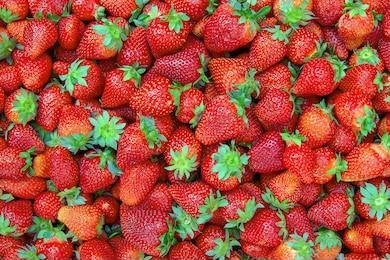Fresa: (192, 90, 252, 152), (200, 1, 260, 55), (118, 206, 177, 260), (111, 117, 161, 172), (202, 52, 256, 102), (128, 73, 181, 121), (198, 142, 246, 194), (33, 81, 79, 135), (143, 13, 193, 62), (245, 25, 292, 77), (151, 48, 209, 90), (305, 190, 357, 235), (163, 123, 205, 178), (291, 55, 342, 100), (166, 177, 219, 220), (239, 206, 288, 251), (76, 148, 120, 197), (57, 202, 107, 245), (44, 144, 84, 197), (72, 18, 120, 62), (113, 23, 156, 72), (335, 61, 385, 103), (283, 138, 324, 188), (252, 86, 299, 129), (64, 56, 107, 102), (99, 65, 141, 112), (21, 12, 60, 62), (57, 101, 96, 147), (1, 194, 38, 239), (4, 120, 47, 156), (2, 86, 38, 126)
